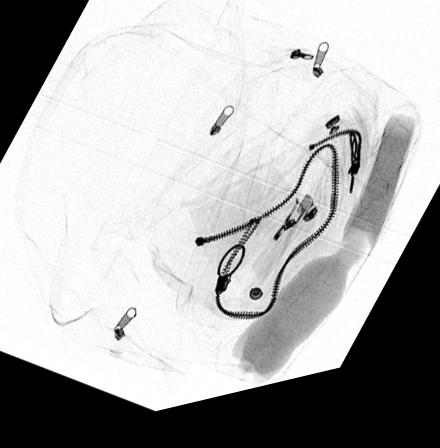Lighter: (249, 204, 315, 295)
